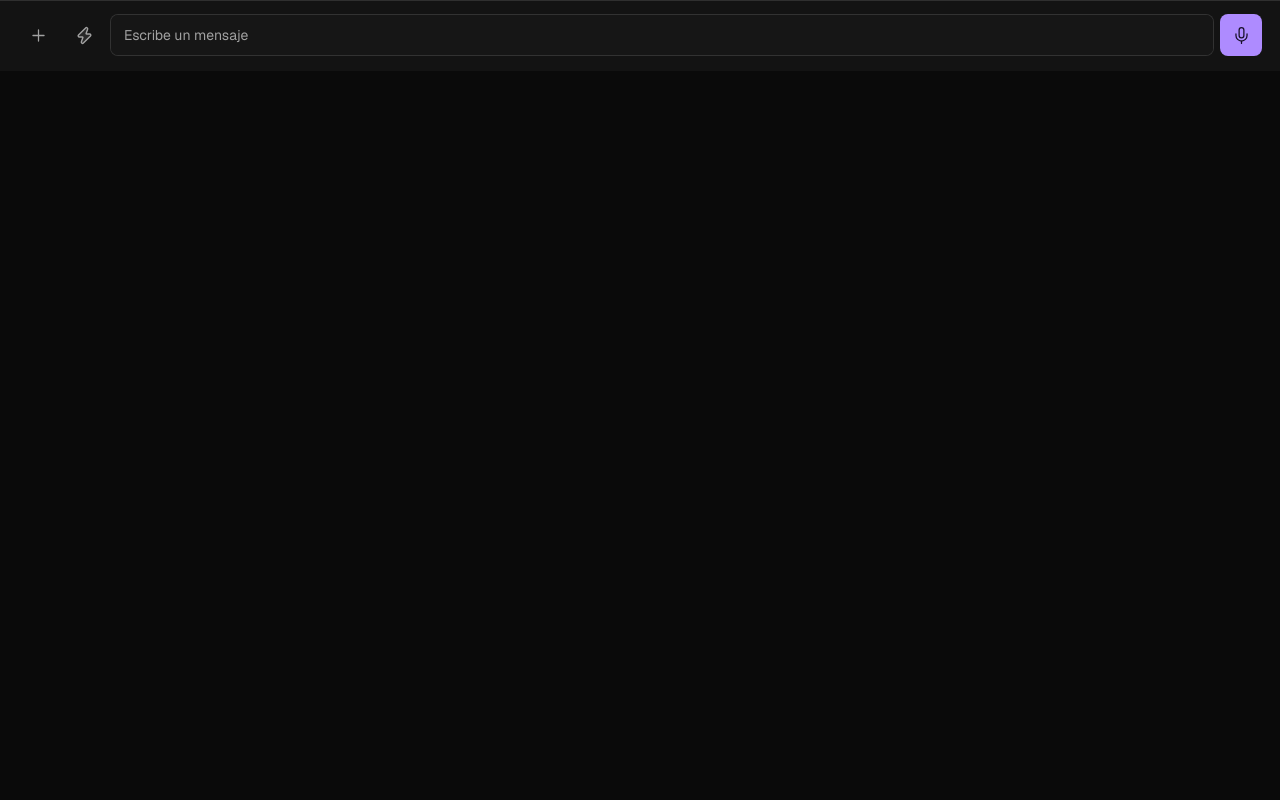
Test: ChatComposer › offers interactive messages from the actions menu when they can be sent
This screenshot has width=1280, height=800.
What coordinates should you click on to do the following:
click the button named "Abrir acciones"
I would click on:
 (38, 35)
Its box is 18,15 -> 58,55.
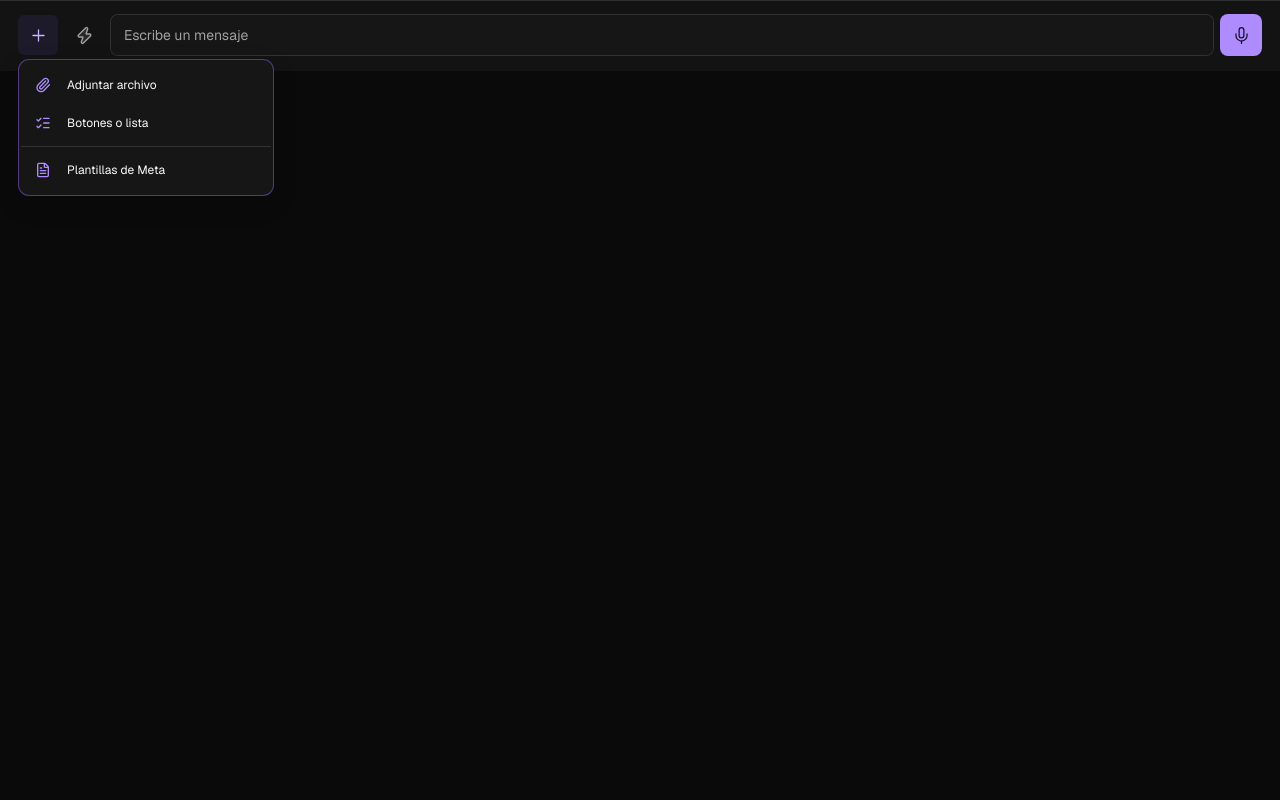
What coordinates should you click on to do the following:
click the menu item "Botones o lista"
I would click on:
 (92, 123)
Its box is 35,115 -> 148,131.
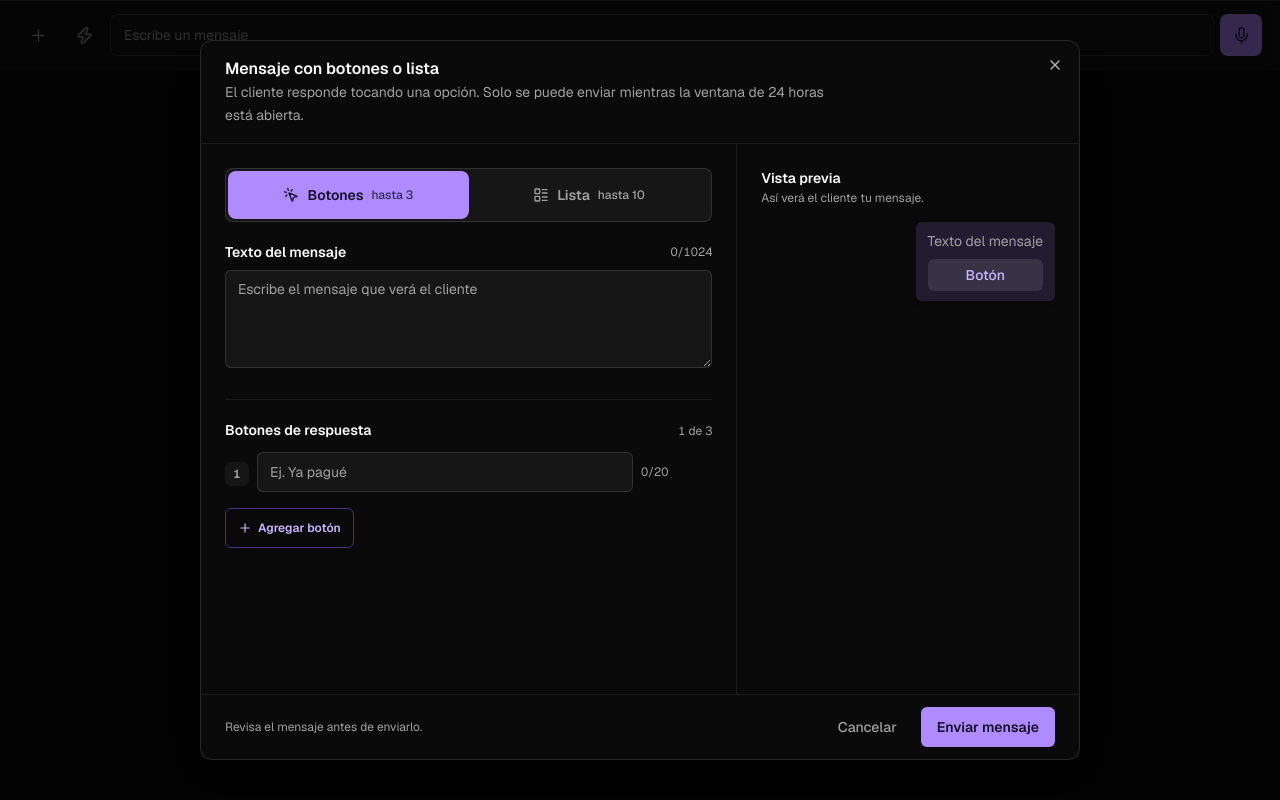
Expected: the dialog is shown
